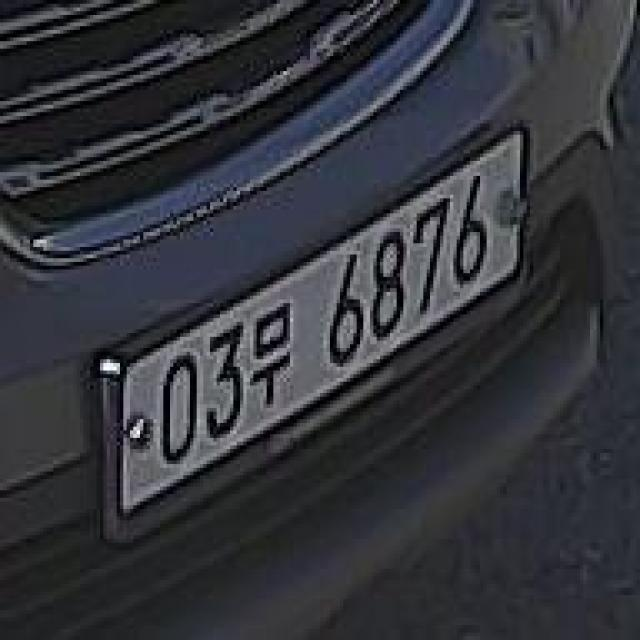illegal_plate: (101, 123, 534, 546)
